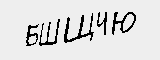Б: (24, 22, 41, 47)
Ч: (94, 8, 109, 38)
Ш: (38, 17, 61, 47)
Щ: (64, 11, 95, 44)
Ю: (110, 9, 137, 35)
